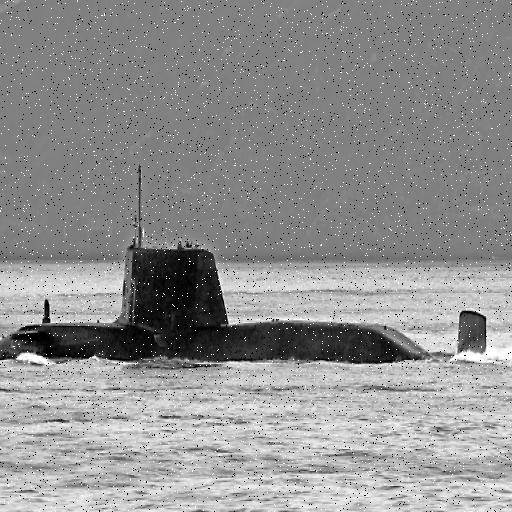submarine: (1, 159, 491, 359)
